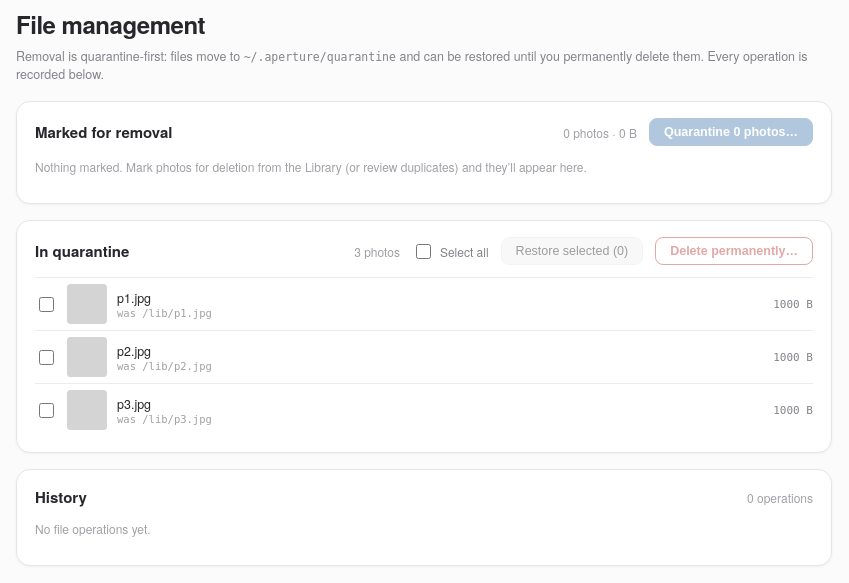
Scenario: QuarantineView select all › toggling select all a second time clears the selection
Click the checkbox named "Select all quarantined photos": {"x": 423, "y": 251} top-left (416, 244), bottom-right (431, 258)
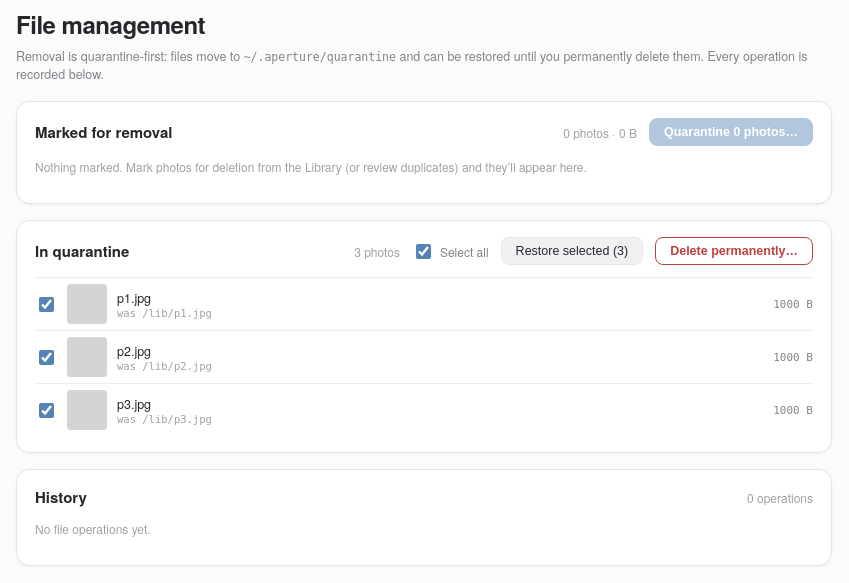
Click the checkbox named "Select all quarantined photos": {"x": 423, "y": 251} top-left (416, 244), bottom-right (431, 258)
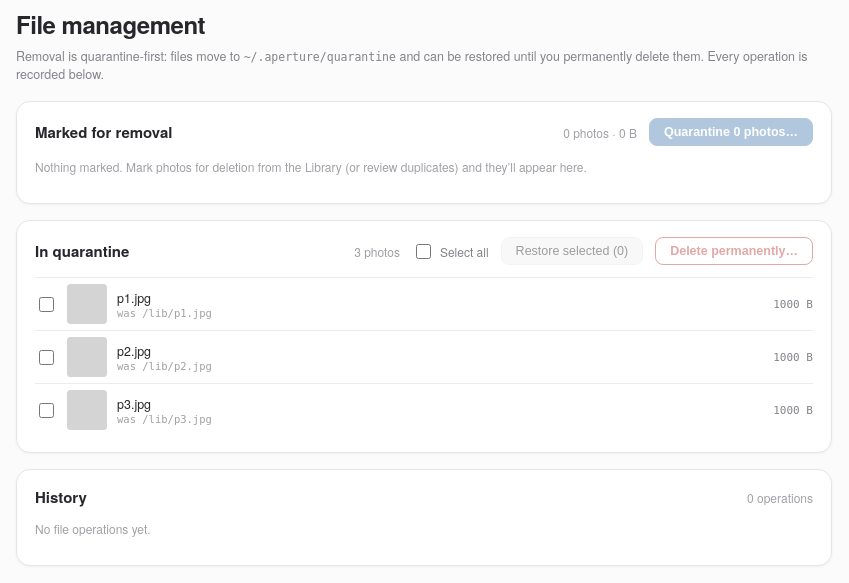
expect the 2nd checkbox with class "row-check" is not checked: met, box top-left (39, 296), bottom-right (54, 312)
expect the 3rd checkbox with class "row-check" is not checked: met, box top-left (39, 350), bottom-right (54, 364)
expect the 4th checkbox with class "row-check" is not checked: met, box top-left (39, 402), bottom-right (54, 418)
